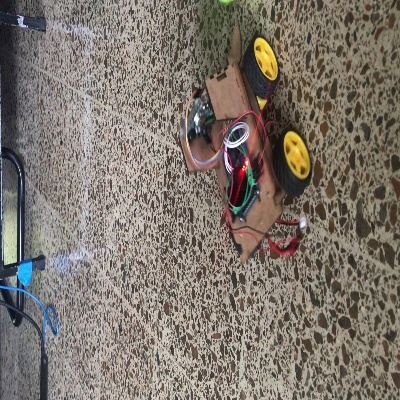Robot: (176, 27, 311, 264)
